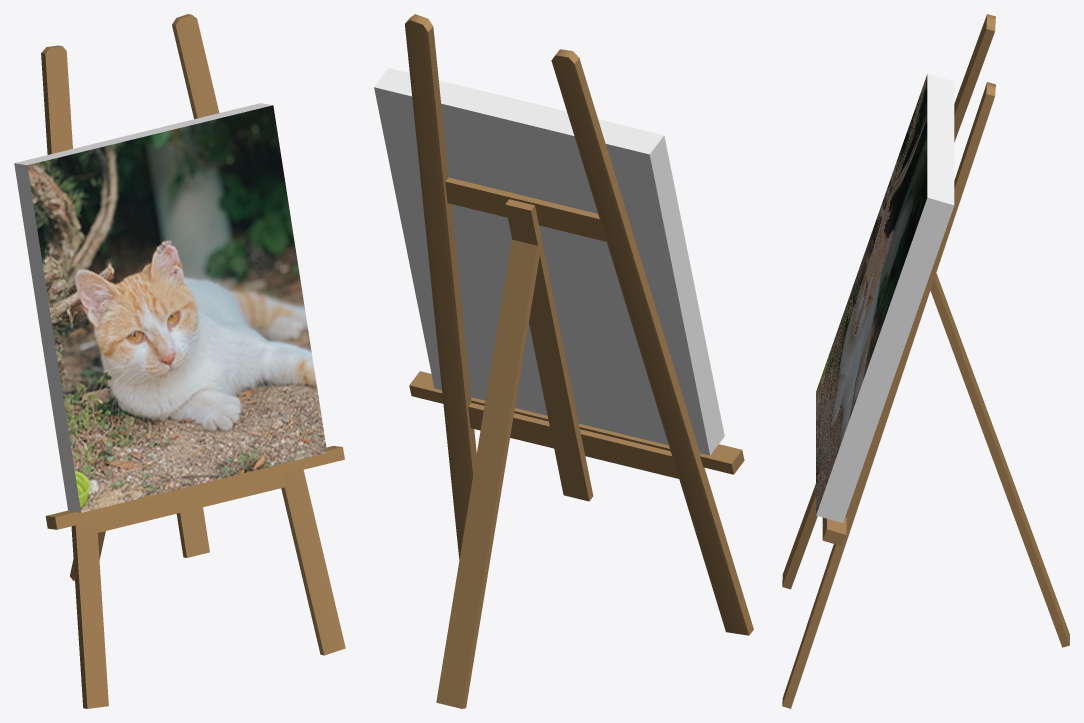
File: ajoumeo_1.fbx
3 renders of one model, left to right at view 1: azimuth 30°, elevation 25°; view 2: azimuth 150°, elevation 25°; view 3: azimuth 270°, elevation 25°, orthographic. The views are drawn at different scales.
Visible parts, largest first — view 1: ajoumeo_01; view 2: ajoumeo_01; view 3: ajoumeo_01.
Part boxes in pixels (bbox=[...]): ajoumeo_01: bbox=[14, 14, 345, 708]; ajoumeo_01: bbox=[374, 14, 753, 708]; ajoumeo_01: bbox=[782, 14, 1069, 708].
Size of the model in its own units: 0.672 by 1.29 by 0.5641.
Materials: 1 (1 with a texture image).
